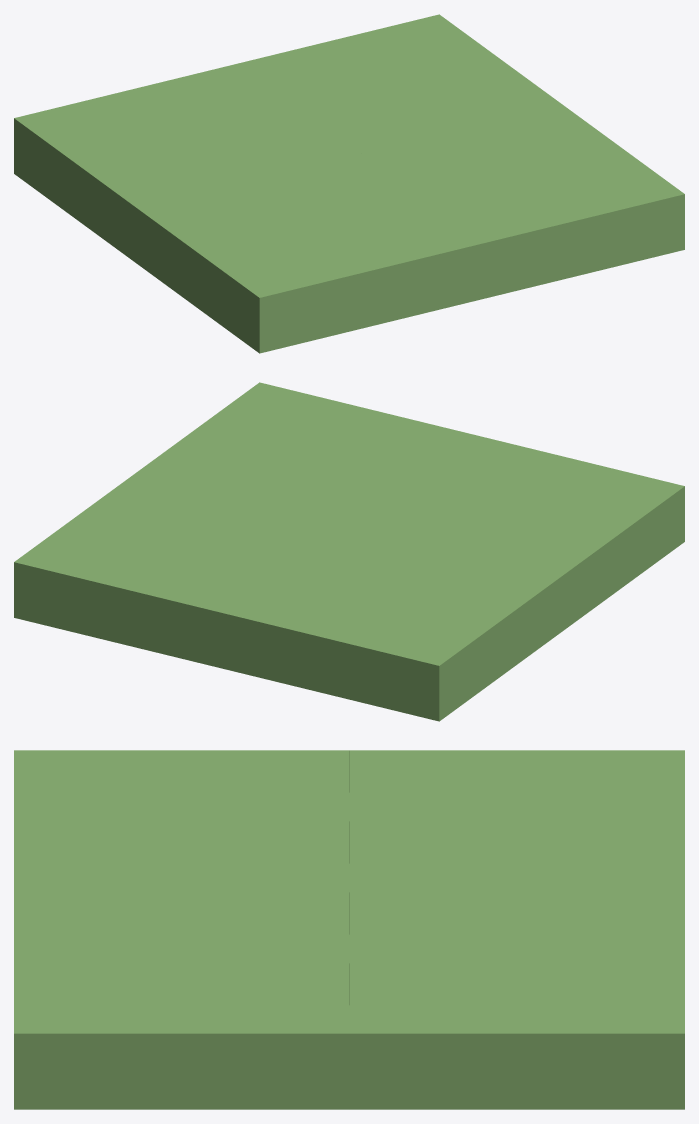
The model's file is grass.fbx.
The picture shows the model from 3 angles, top to bottom: view 1: azimuth 30°, elevation 25°; view 2: azimuth 150°, elevation 25°; view 3: azimuth 270°, elevation 25°; orthographic projection. The views are drawn at different scales.
Parts seen in each view (by area): view 1: Cube.003; view 2: Cube.003; view 3: Cube.003.
Boxes of the visible parts, x1=… form: Cube.003: x1=14, y1=14, x2=684, y2=353; Cube.003: x1=14, y1=382, x2=684, y2=721; Cube.003: x1=14, y1=750, x2=684, y2=1109.
Size of the model in its own units: 1600 by 200 by 1600.
